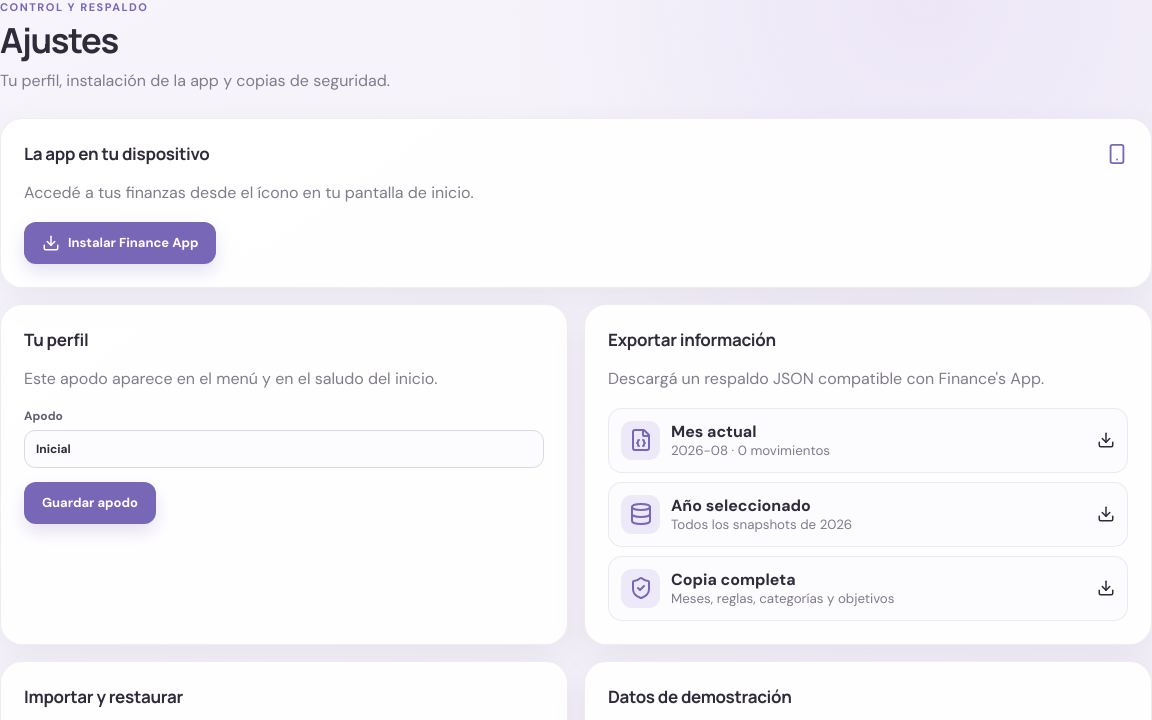
Test: profile preferences › updates the nickname from Ajustes and confirms the persisted value
Expected: the button "Instalar Finance App" is shown, [24,222,216,264]
Replace the text in the field labelled "Apodo" with "  Nuevo apodo  " at (284, 449), box [24,430,544,468]
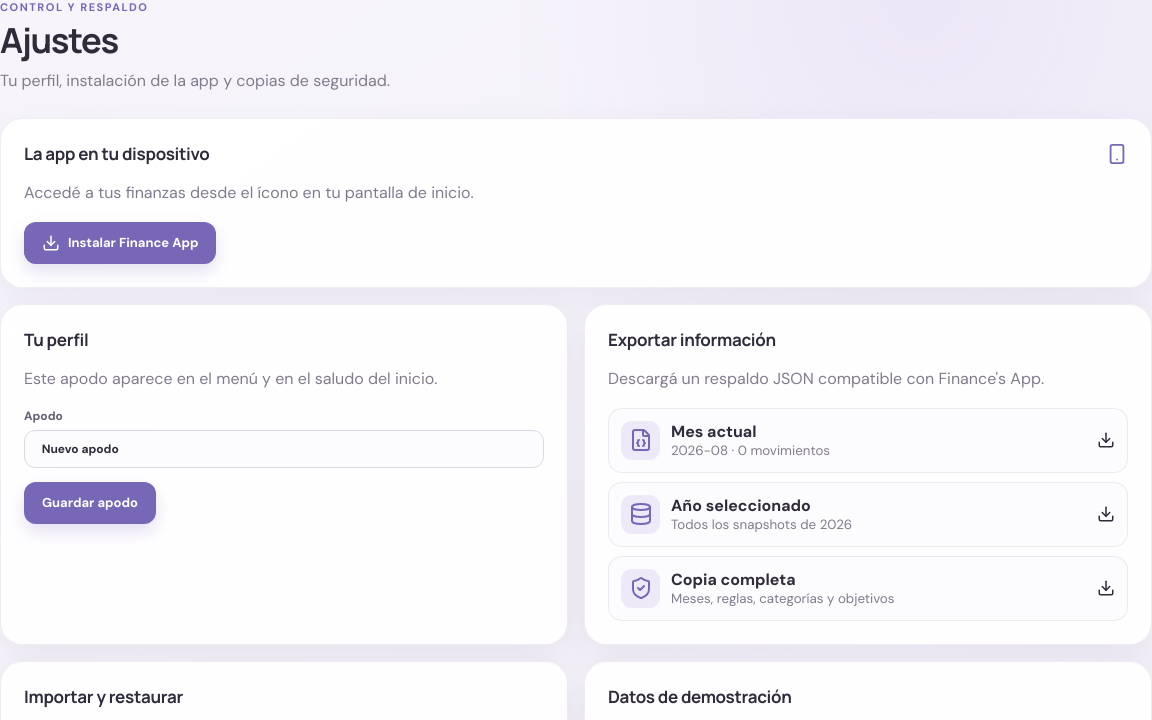
Click the button "Guardar apodo" at (90, 503), box [24,482,156,524]
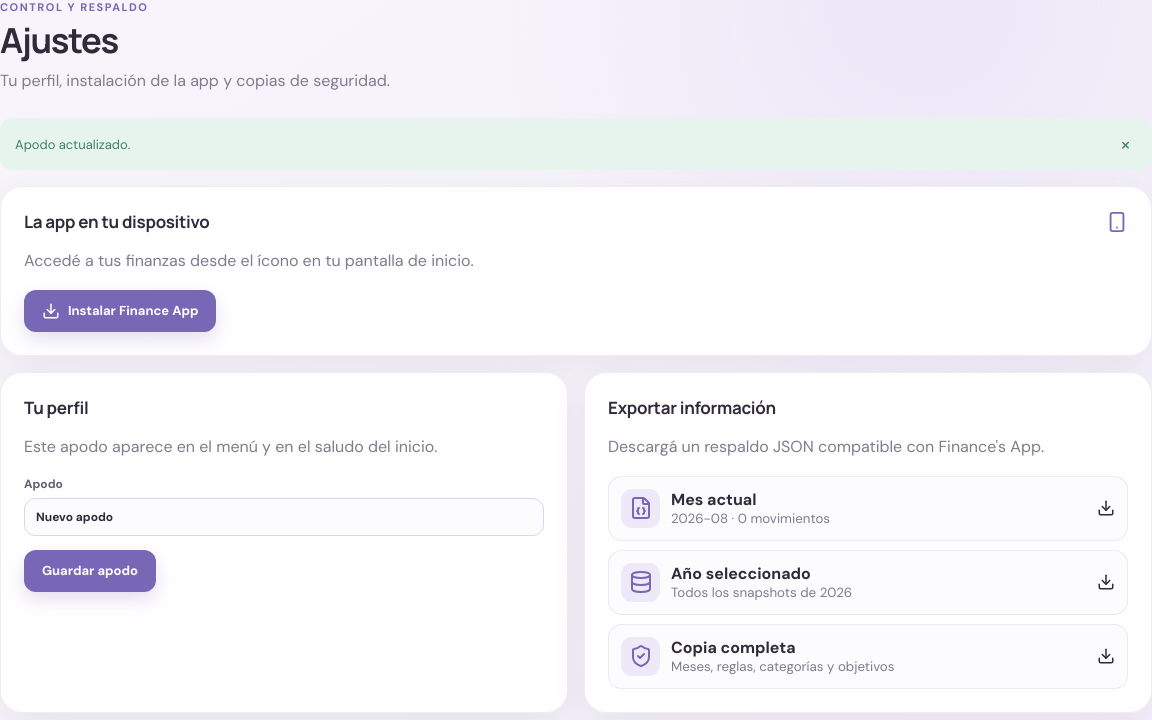
Now the text "Apodo actualizado." is shown, box [15,136,130,152]
